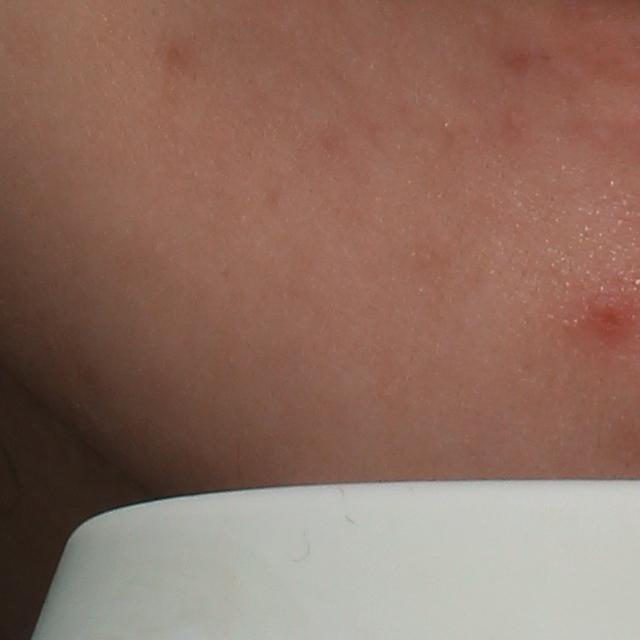papule: (584, 283, 632, 341)
